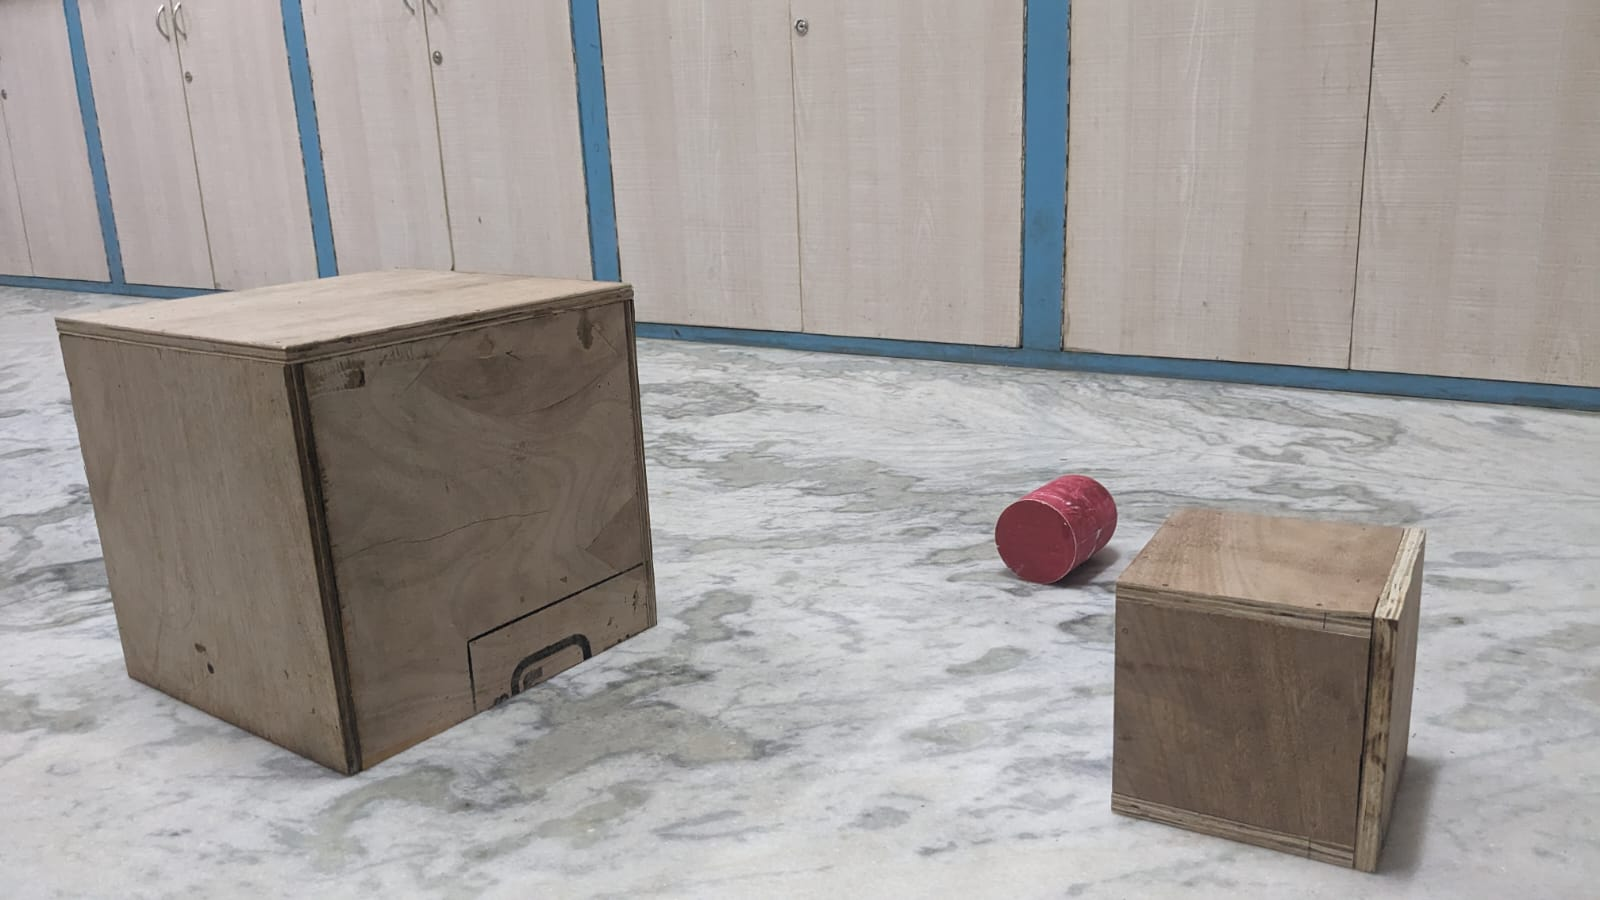150mm obstacle: (1116, 474, 1443, 890)
300mm obstacle: (38, 257, 699, 782)
testtube: (987, 455, 1119, 576)
